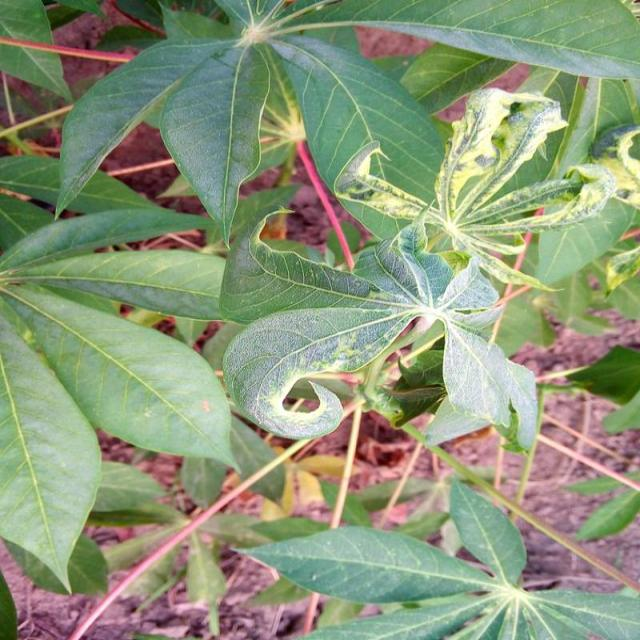cassava leaf: (4, 1, 638, 619), (4, 280, 242, 473), (1, 303, 104, 596)
